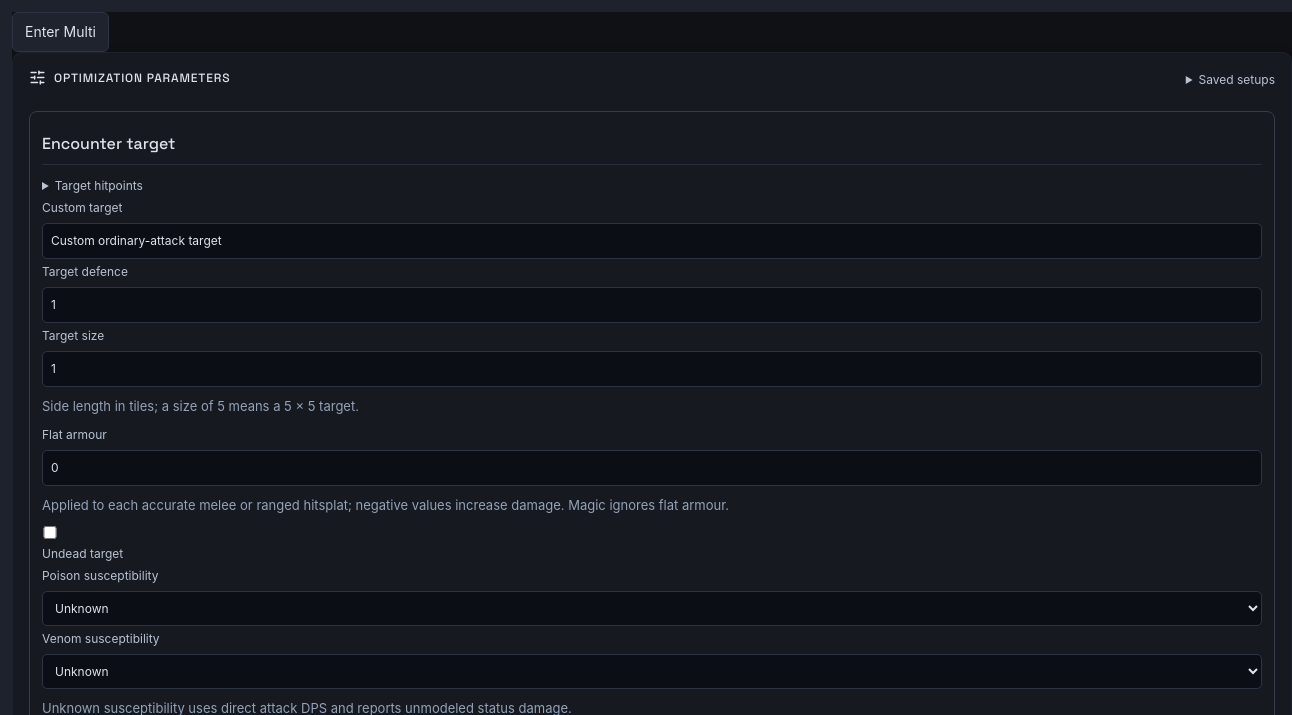
it: orders the core controls and keeps saved setup management collapsed
This screenshot has width=1292, height=715.
expect the field labelled "Save current setup as" is not shown: met
Step 1. Click the heading "Saved setups" → (1230, 80), box 1186,71 -> 1275,89
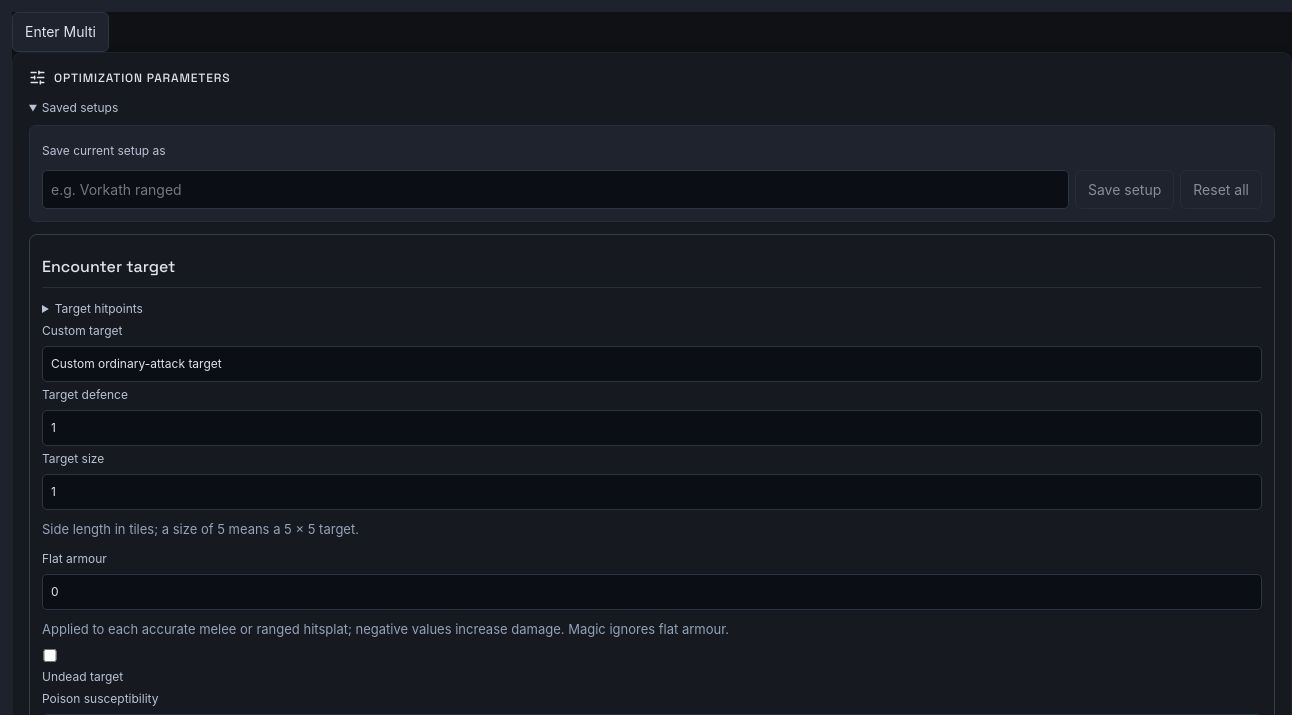
expect the field labelled "Save current setup as" is shown: met, box 42,170 -> 1069,209
